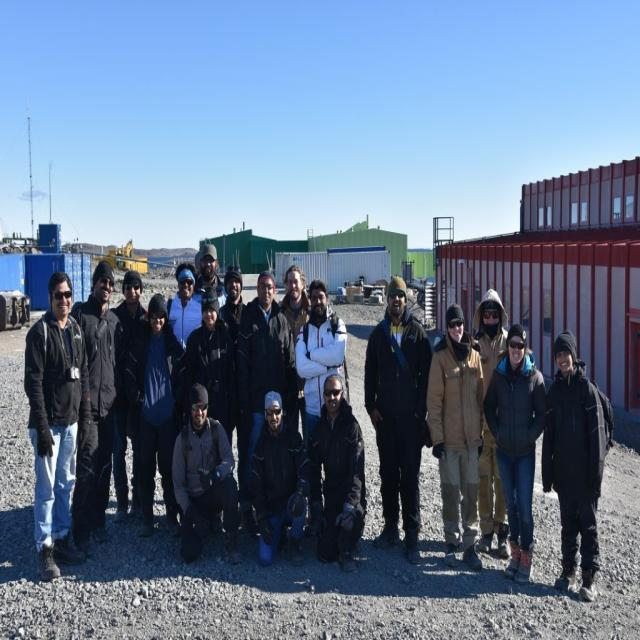body: (0, 498, 584, 600), (362, 272, 439, 568), (22, 268, 92, 584), (540, 327, 616, 606), (481, 322, 549, 586), (120, 291, 192, 540), (66, 258, 125, 552), (234, 268, 298, 538), (469, 288, 532, 562), (426, 303, 485, 571), (292, 279, 348, 539), (170, 379, 240, 566), (306, 371, 368, 567), (248, 388, 312, 568), (218, 265, 260, 530), (109, 268, 149, 528), (183, 287, 237, 453), (276, 262, 313, 458), (165, 261, 206, 354), (191, 243, 228, 310)
